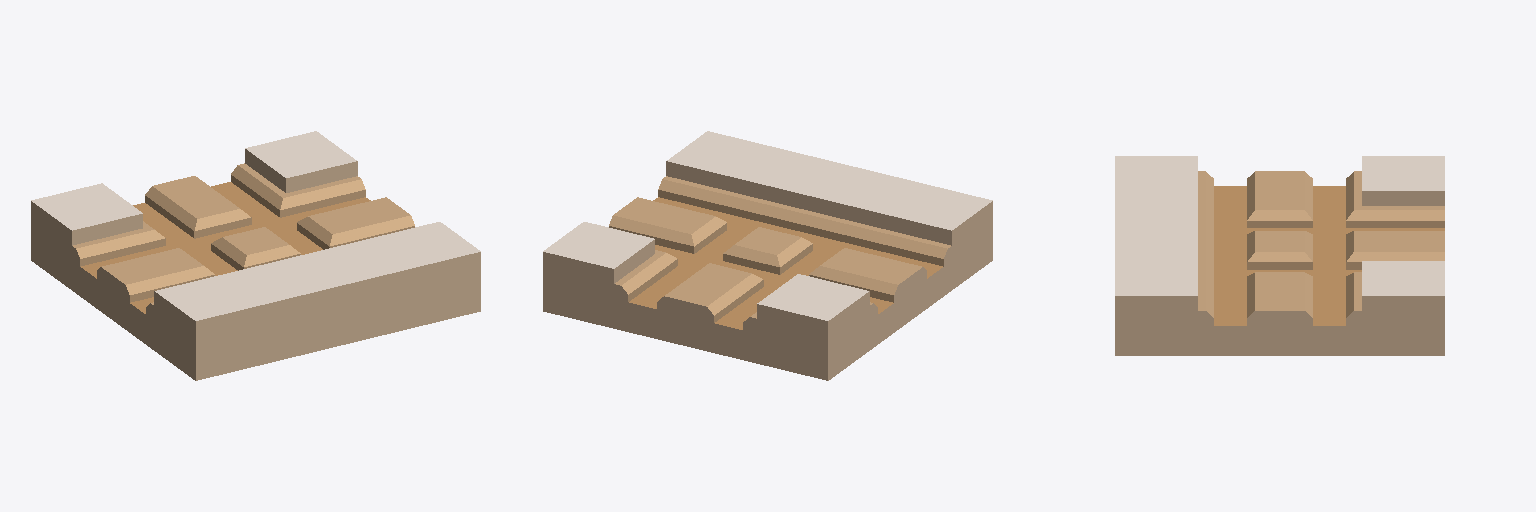
File: Puzzle_Track_Standard_TJoint.obj
3 renders of one model, left to right at view 1: azimuth 30°, elevation 25°; view 2: azimuth 150°, elevation 25°; view 3: azimuth 270°, elevation 25°, orthographic.
Visible parts, largest first — view 1: object1; view 2: object1; view 3: object1.
Part boxes in pixels (x1,y1,x2,y2): object1: (31, 131, 480, 380); object1: (543, 131, 992, 380); object1: (1115, 156, 1444, 355).
Size of the model in its own units: 1 by 0.2 by 1.